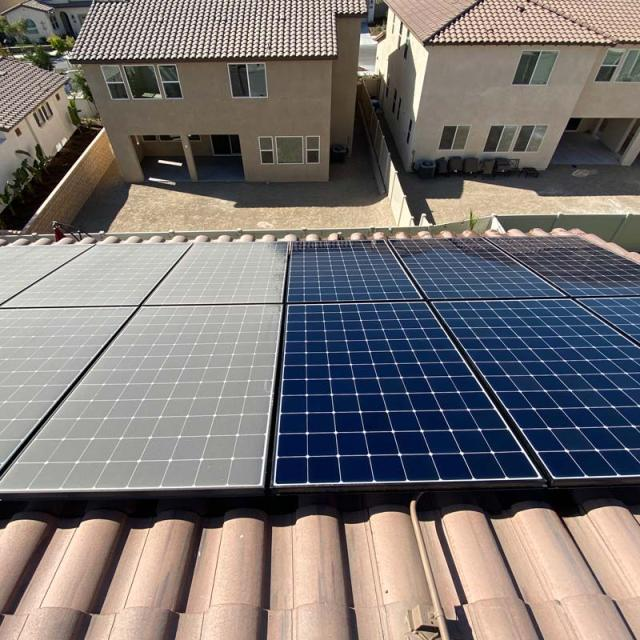clean-solar-panel: (272, 236, 640, 489)
